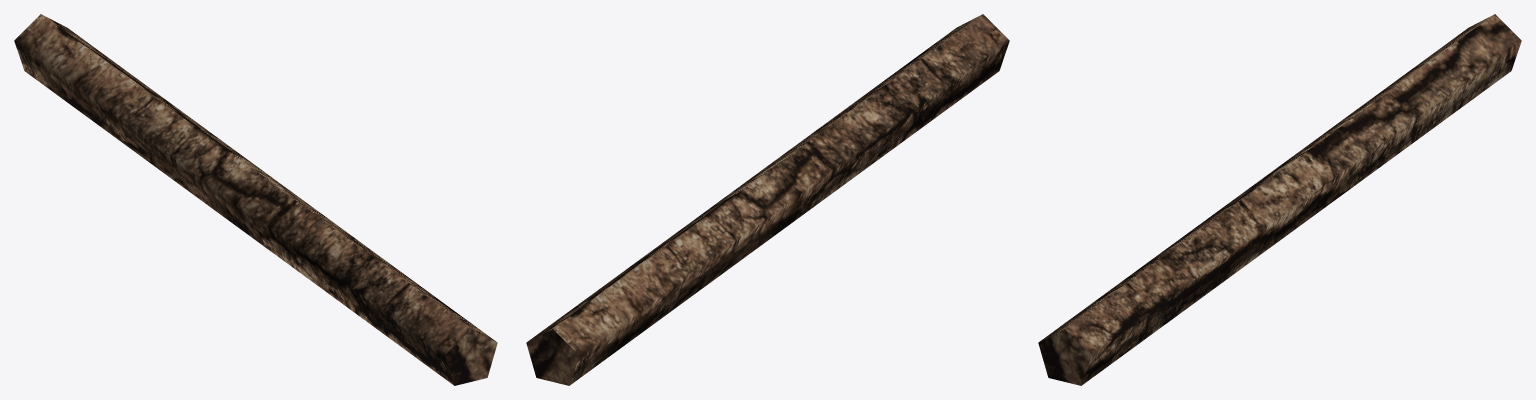
The model's file is SM_FOL_Stick_01_A.glb.
3 views of the same model, side by side, from view 1: azimuth 30°, elevation 25°; view 2: azimuth 150°, elevation 25°; view 3: azimuth 330°, elevation 25° (orthographic).
Parts seen in each view (by area): view 1: SM_FOL_Stick_01_A; view 2: SM_FOL_Stick_01_A; view 3: SM_FOL_Stick_01_A.
Boxes of the visible parts, x1,y1,x2,y2 form: SM_FOL_Stick_01_A: [14, 14, 497, 385]; SM_FOL_Stick_01_A: [526, 14, 1009, 385]; SM_FOL_Stick_01_A: [1038, 14, 1521, 385].
Bounding box in the file's own units: 0.0571 × 0.0543 × 0.7981.
Materials: 1 (1 with a texture image).
